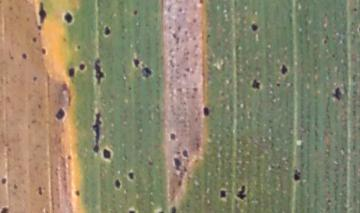tarspot: (92, 111, 102, 153), (93, 58, 106, 84), (37, 2, 47, 23), (62, 11, 73, 24), (237, 186, 247, 200), (55, 107, 66, 119), (141, 66, 152, 78), (102, 147, 112, 160), (333, 87, 342, 101), (172, 157, 181, 170), (102, 23, 110, 37), (293, 168, 301, 181), (251, 80, 261, 90), (202, 105, 210, 117), (280, 63, 288, 75), (30, 73, 39, 82), (250, 23, 259, 32), (78, 62, 86, 72), (68, 67, 76, 77), (132, 57, 140, 67), (182, 148, 189, 159), (39, 46, 47, 55), (220, 187, 226, 199), (177, 178, 183, 189), (168, 133, 176, 141), (21, 51, 28, 60), (128, 171, 135, 180), (37, 186, 43, 196), (115, 179, 121, 189), (147, 158, 154, 166), (126, 83, 133, 91), (174, 148, 182, 155), (1, 176, 7, 185), (1, 206, 8, 213), (182, 166, 189, 173), (325, 198, 333, 204), (66, 152, 71, 161), (31, 36, 38, 42), (75, 189, 81, 196), (171, 206, 177, 213), (352, 5, 358, 12), (36, 102, 42, 109), (8, 54, 15, 60), (8, 5, 14, 12), (37, 24, 43, 30), (76, 44, 82, 50), (12, 183, 18, 189), (275, 82, 281, 88), (133, 8, 138, 15), (323, 38, 328, 45), (128, 209, 136, 213), (158, 209, 166, 213), (197, 1, 204, 4)
